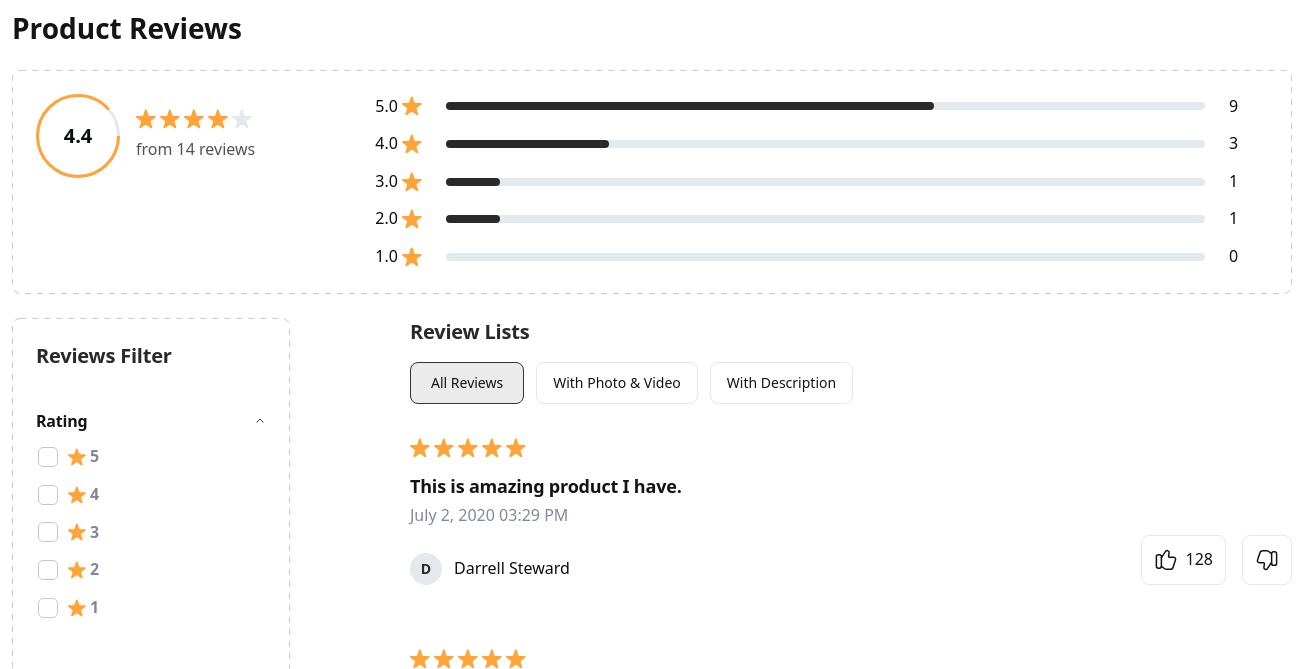
Scenario: ProductReviews › adds and removes the shopper like on a review
The image size is (1304, 669).
Click the button named "Helpful, 128 likes" at (1183, 560), box x1=1140 y1=535 x2=1226 y2=585
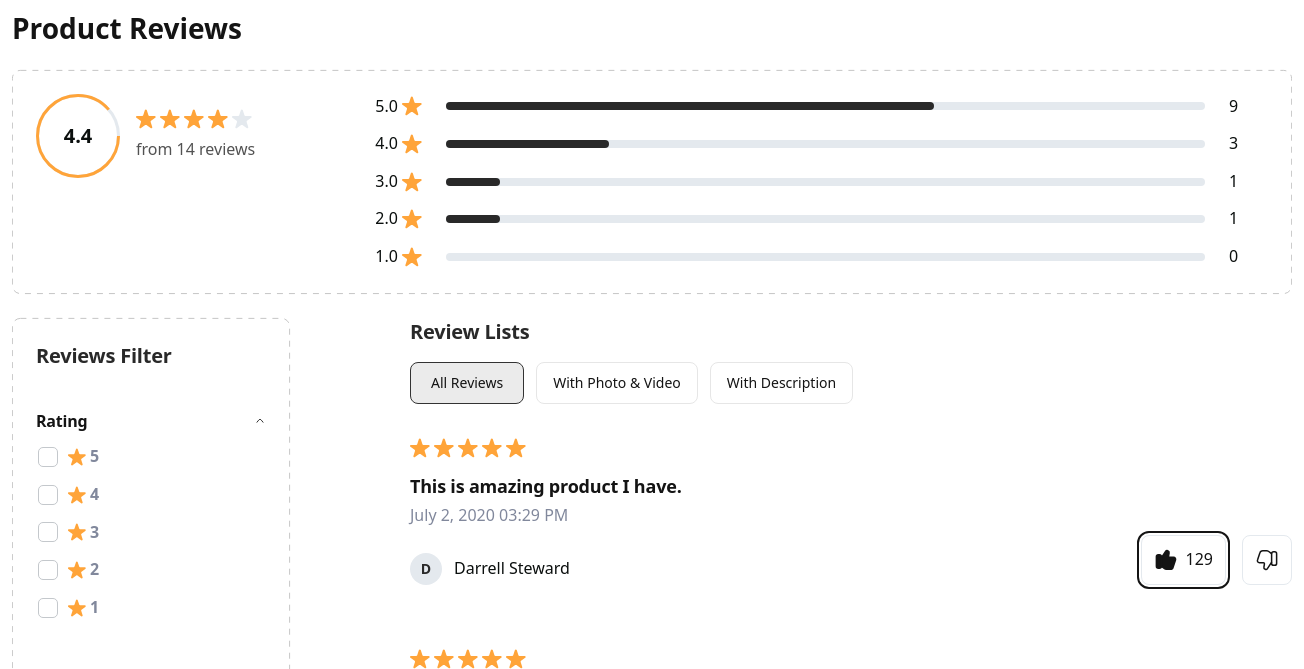
Check: the button named "Helpful, 129 likes" is pressed
Click the button named "Helpful, 129 likes" at (1183, 560), box x1=1140 y1=535 x2=1226 y2=585
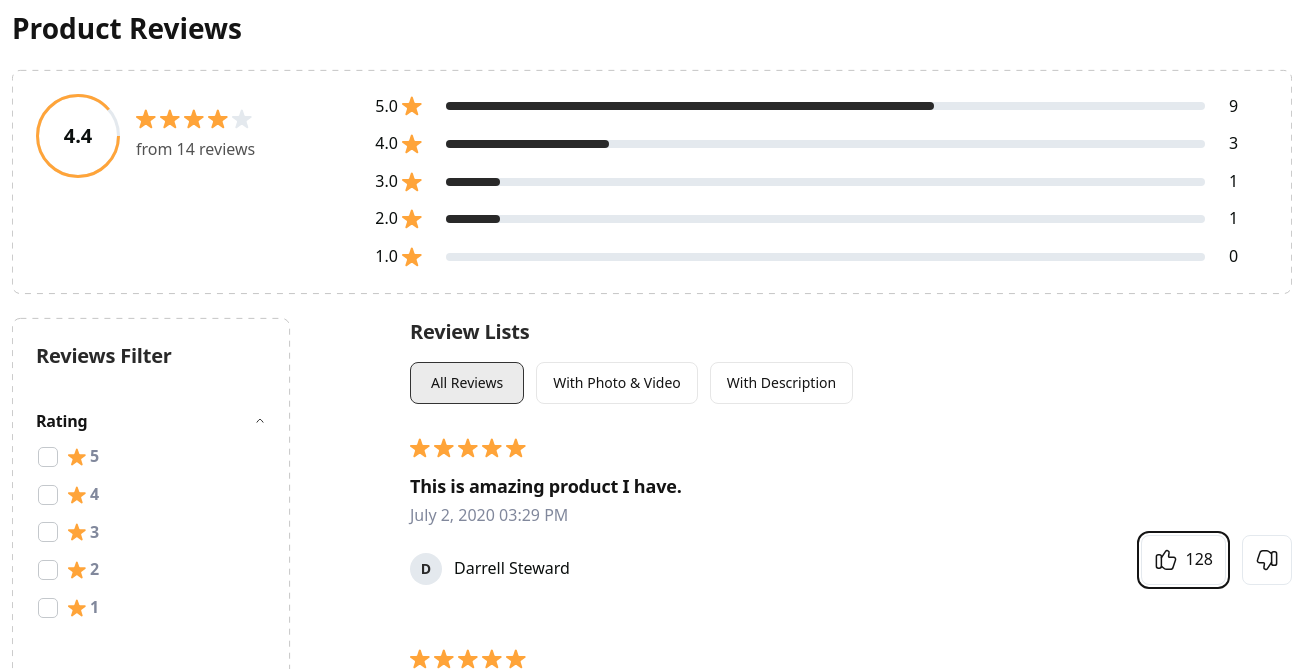
Check: the button named "Helpful, 128 likes" is not pressed, box x1=1140 y1=535 x2=1226 y2=585
